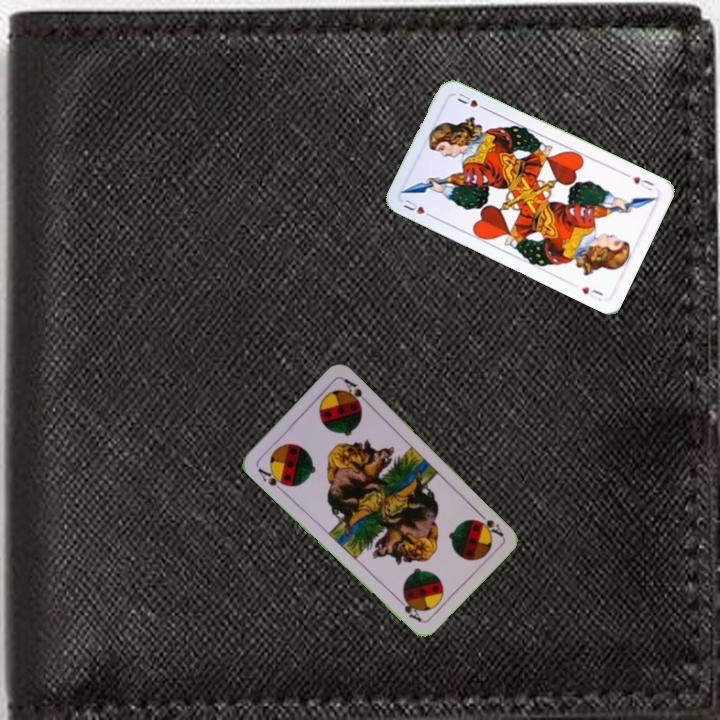HU: (399, 196, 437, 221), (621, 169, 656, 194)
SA: (254, 464, 290, 495), (473, 507, 506, 539)
